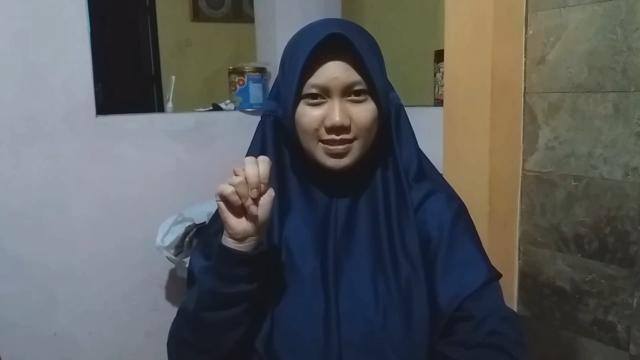N: (214, 154, 278, 236)
